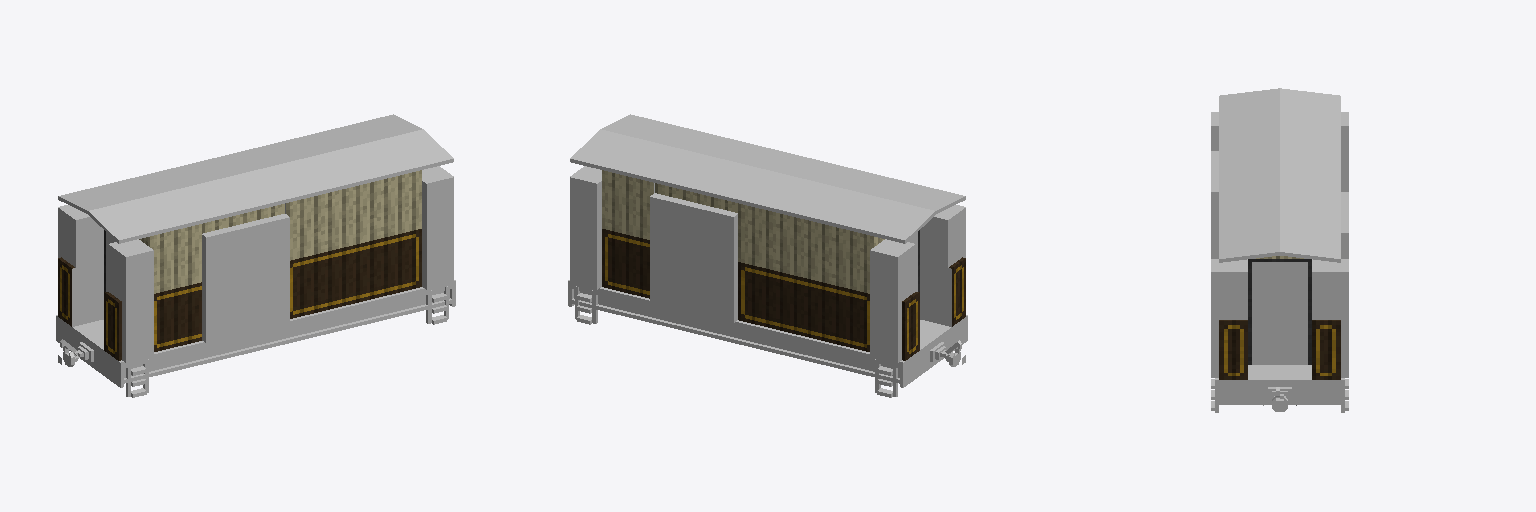
The picture shows the model from 3 angles: view 1: azimuth 30°, elevation 25°; view 2: azimuth 150°, elevation 25°; view 3: azimuth 270°, elevation 25°; orthographic projection.
Visible parts, largest first — view 1: SHELL_WOOD_Cube.019, SHELL_WOOD_roof_Cube.004, DOOR_10_Cube.028, DOOR_5_Cube.001, DOOR_6_Cube.001, DOOR_7_Cube.001, FRAME.001_Cube.025, FRAME_Cube.008, FRAME_cab_Cube.055, FRAME_cab.001_Cube.062, DOOR_10_EXTERNAL_TL_1.25_X_Cube.020; view 2: SHELL_WOOD_Cube.019, SHELL_WOOD_roof_Cube.004, DOOR_9_Cube.029, DOOR_6_Cube.001, DOOR_5_Cube.001, DOOR_8_Cube.001, FRAME_Cube.008, FRAME.001_Cube.025, FRAME_cab_Cube.055, FRAME_cab.001_Cube.062, DOOR_9_EXTERNAL_TL_-1.25_X_Cube.027; view 3: SHELL_WOOD_roof_Cube.004, SHELL_WOOD_Cube.019, FRAME_cab.001_Cube.062, DOOR_8_Cube.001, DOOR_7_Cube.001, DOOR_4_Cube.046, DOOR_3_Cube.044, DOOR_10_Cube.028, DOOR_6_Cube.001, DOOR_9_Cube.029.
Part boxes in pixels (left/top/right/bottom): SHELL_WOOD_Cube.019: left=58, top=170, right=421, bottom=360; SHELL_WOOD_roof_Cube.004: left=58, top=114, right=453, bottom=243; DOOR_10_Cube.028: left=202, top=214, right=289, bottom=343; DOOR_5_Cube.001: left=108, top=239, right=153, bottom=362; DOOR_6_Cube.001: left=58, top=205, right=103, bottom=325; DOOR_7_Cube.001: left=422, top=166, right=453, bottom=289; FRAME.001_Cube.025: left=286, top=287, right=422, bottom=343; FRAME_Cube.008: left=152, top=324, right=287, bottom=375; FRAME_cab_Cube.055: left=56, top=315, right=153, bottom=397; FRAME_cab.001_Cube.062: left=421, top=280, right=455, bottom=324; DOOR_10_EXTERNAL_TL_1.25_X_Cube.020: left=202, top=204, right=284, bottom=233; SHELL_WOOD_Cube.019: left=602, top=170, right=965, bottom=360; SHELL_WOOD_roof_Cube.004: left=570, top=114, right=965, bottom=243; DOOR_9_Cube.029: left=650, top=193, right=737, bottom=322; DOOR_6_Cube.001: left=870, top=239, right=915, bottom=362; DOOR_5_Cube.001: left=920, top=205, right=965, bottom=325; DOOR_8_Cube.001: left=570, top=166, right=601, bottom=289; FRAME_Cube.008: left=736, top=320, right=871, bottom=375; FRAME.001_Cube.025: left=601, top=287, right=737, bottom=343; FRAME_cab_Cube.055: left=870, top=315, right=967, bottom=397; FRAME_cab.001_Cube.062: left=568, top=280, right=602, bottom=324; DOOR_9_EXTERNAL_TL_-1.25_X_Cube.027: left=655, top=183, right=737, bottom=212; SHELL_WOOD_roof_Cube.004: left=1219, top=88, right=1340, bottom=262; SHELL_WOOD_Cube.019: left=1219, top=256, right=1340, bottom=379; FRAME_cab.001_Cube.062: left=1211, top=365, right=1348, bottom=412; DOOR_8_Cube.001: left=1312, top=259, right=1348, bottom=377; DOOR_7_Cube.001: left=1211, top=259, right=1247, bottom=377; DOOR_4_Cube.046: left=1280, top=262, right=1307, bottom=364; DOOR_3_Cube.044: left=1252, top=262, right=1279, bottom=364; DOOR_10_Cube.028: left=1211, top=151, right=1218, bottom=258; DOOR_6_Cube.001: left=1341, top=112, right=1348, bottom=191; DOOR_9_Cube.029: left=1341, top=192, right=1348, bottom=258.
Bounding box in the file's own units: 7 × 2.94 × 2.12.
Materials: 5 (1 with a texture image).